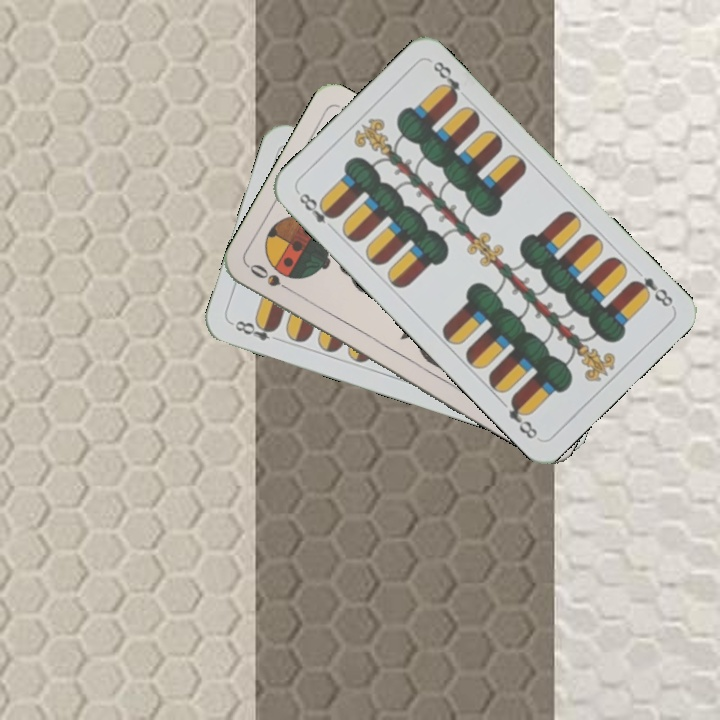E8: (293, 187, 339, 235), (627, 273, 676, 310), (228, 316, 284, 345)
SO: (245, 259, 299, 297)
